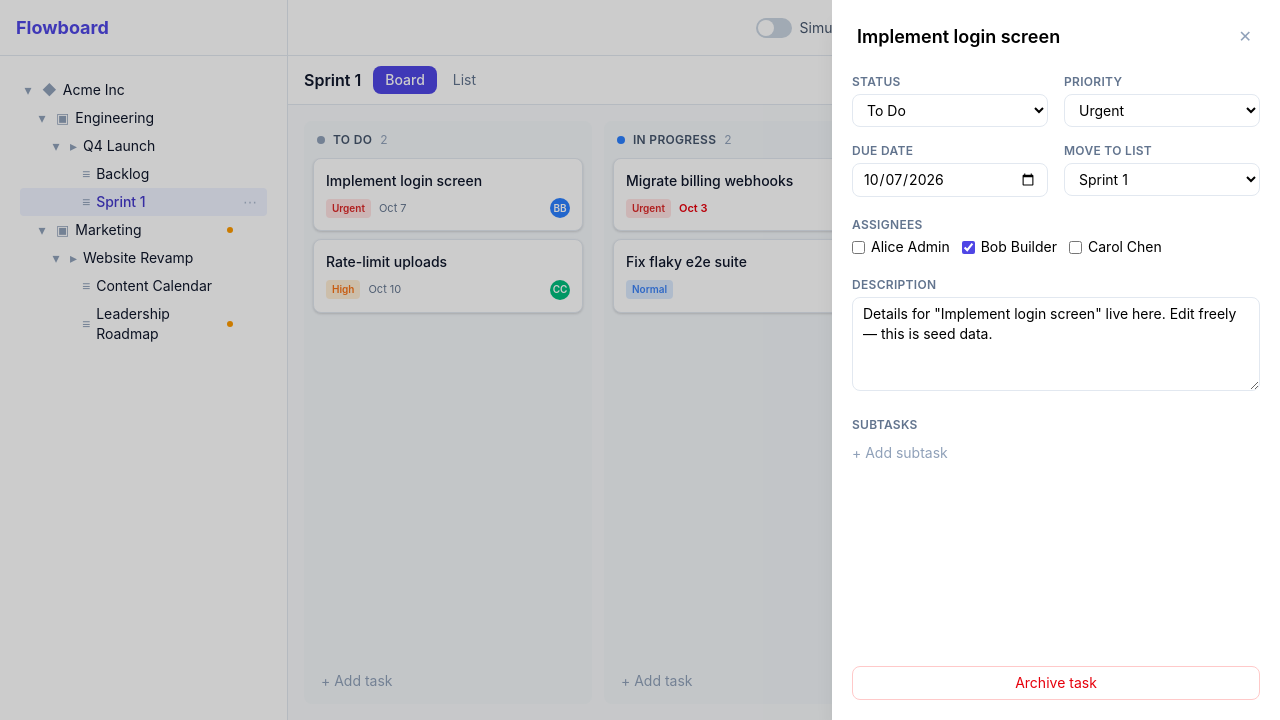
it: a subtask never gains its own "add subtask" affordance (max depth 1)
Click the button "+ Add subtask". click: click(900, 453)
box: [852,443,948,463]
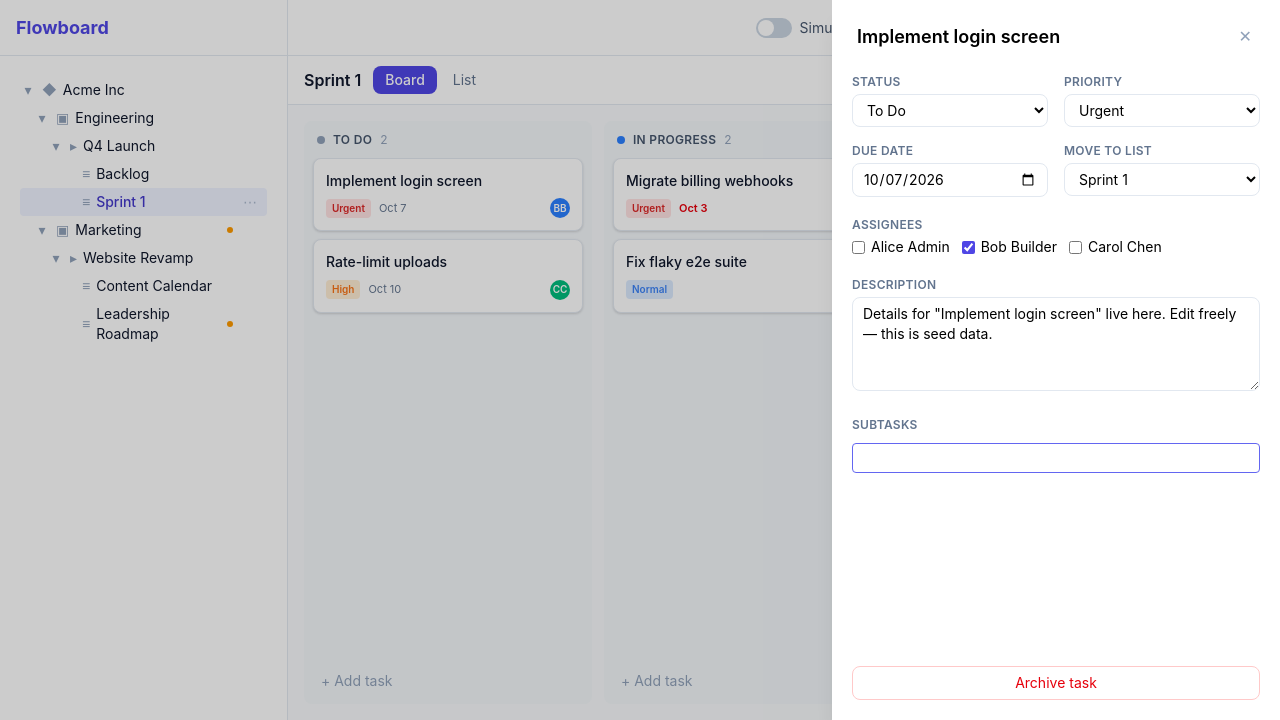
Type keys "Only child{Enter}"
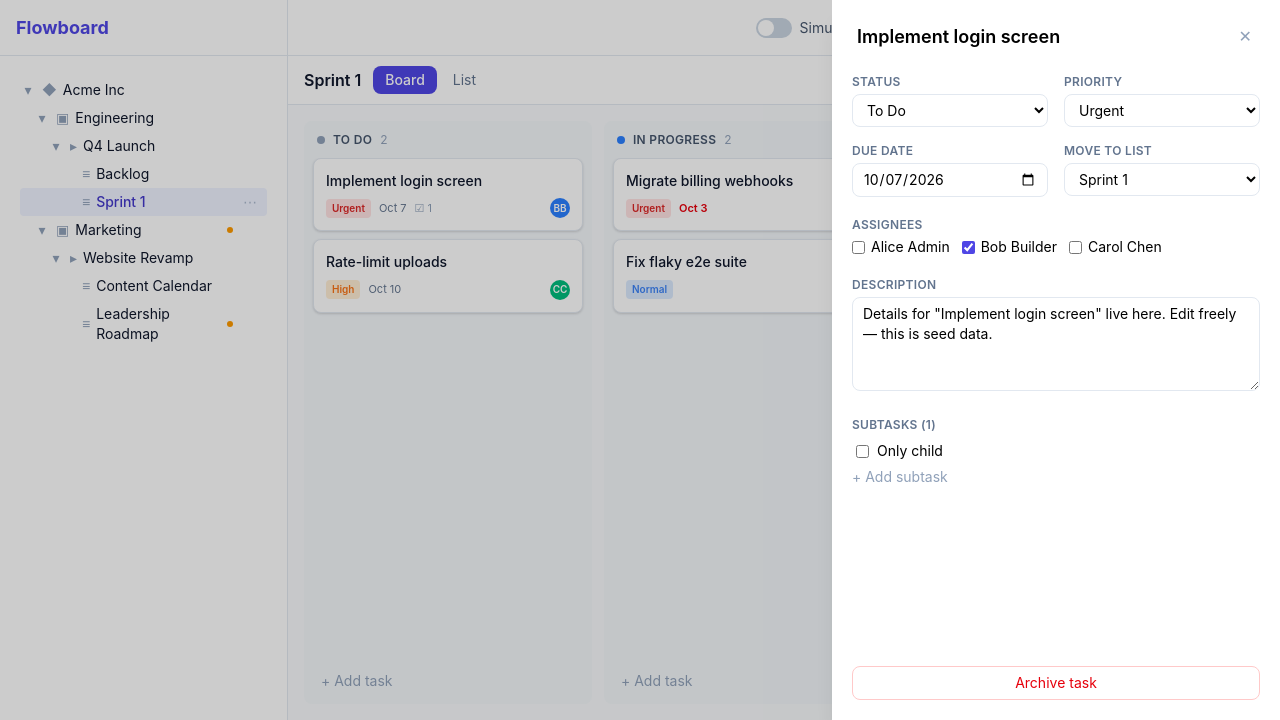
expect the number of buttons "+ Add subtask" is 1: met, box [852,467,948,487]
